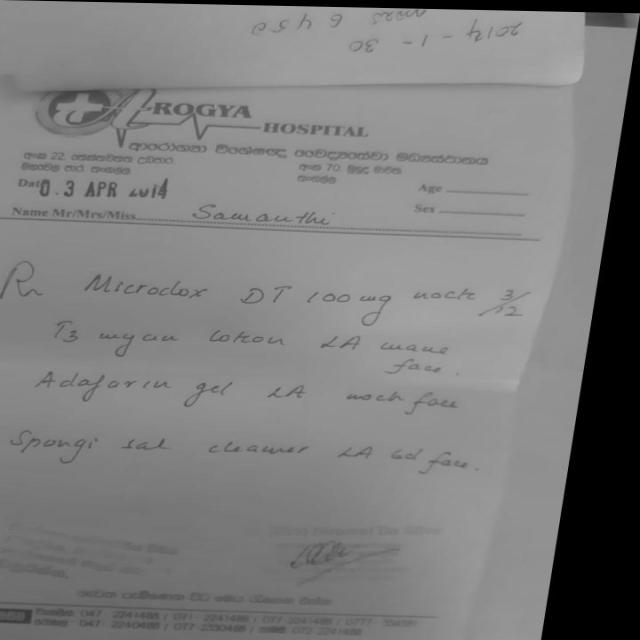Prescription: (23, 421, 445, 485), (89, 267, 546, 321), (44, 367, 422, 415), (106, 327, 467, 356)
